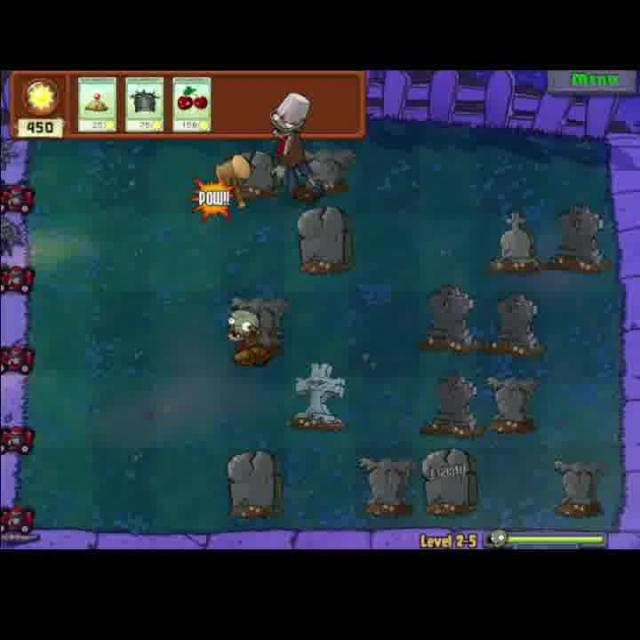coins: (264, 89, 319, 194), (219, 303, 265, 364)
